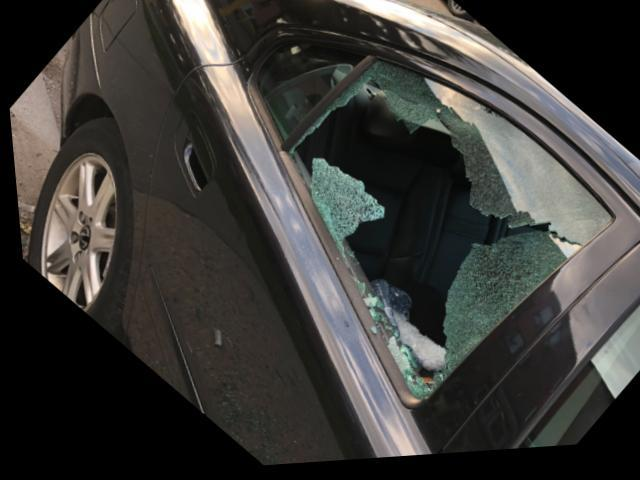glass shatter: (284, 64, 607, 404)
